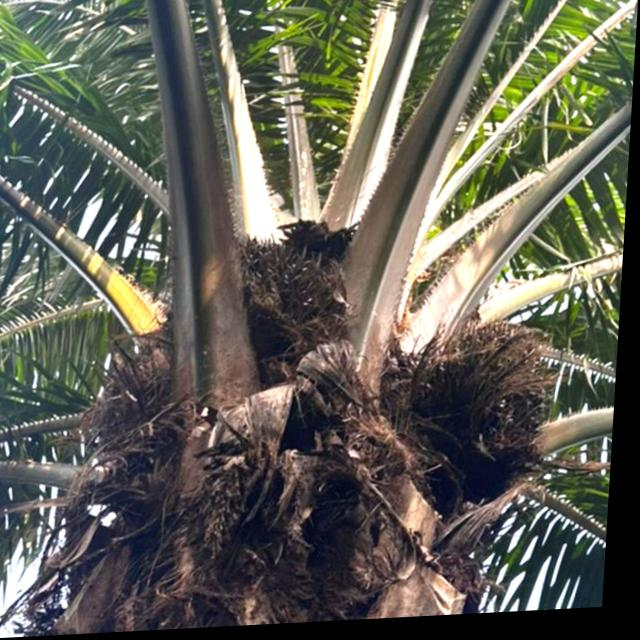ripe: (226, 229, 364, 354)
